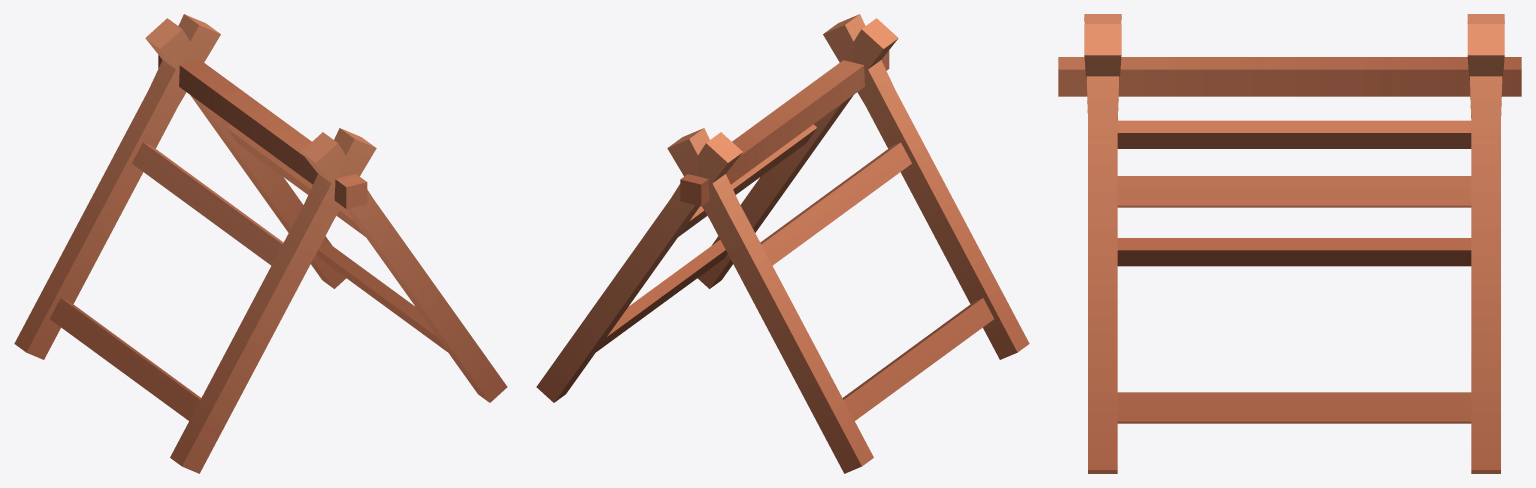
Rendered from tent.obj.
The picture shows the model from 3 angles, left to right: view 1: azimuth 30°, elevation 25°; view 2: azimuth 150°, elevation 25°; view 3: azimuth 270°, elevation 25°; orthographic projection. The views are drawn at different scales.
Visible parts, largest first — view 1: tent; view 2: tent; view 3: tent.
Boxes of the visible parts, <box> form: tent: <box>14,14,507,473</box>; tent: <box>536,14,1029,473</box>; tent: <box>1058,14,1521,473</box>.
Bounding box in the file's own units: 0.5608 × 0.4914 × 0.561.
Materials: 1 (1 with a texture image).
